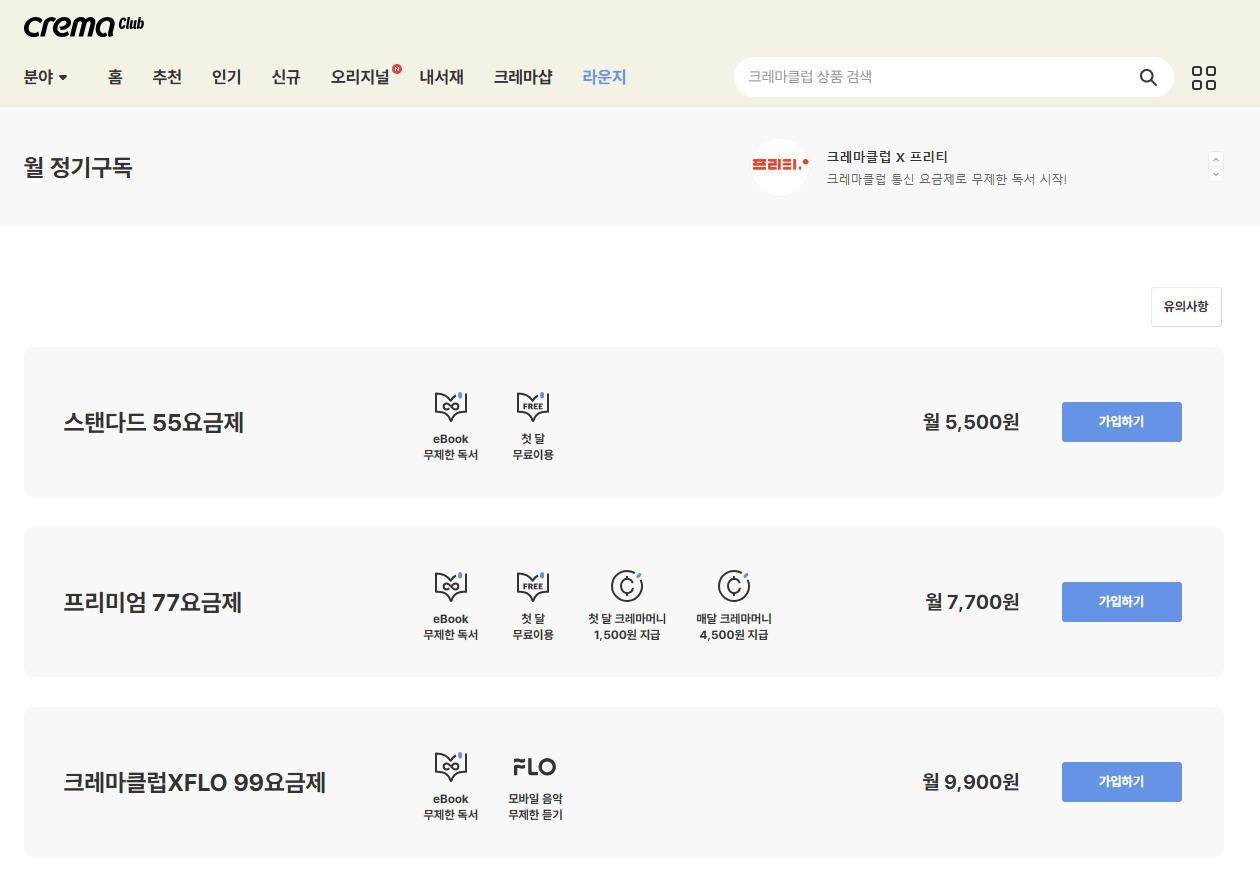button: (1058, 760, 1188, 805), (1059, 580, 1183, 623), (1064, 400, 1183, 442), (1152, 285, 1225, 325), (325, 61, 405, 92), (491, 62, 559, 90), (417, 61, 469, 93), (580, 62, 635, 91), (267, 60, 311, 91), (1188, 58, 1221, 96), (103, 57, 134, 97), (155, 64, 195, 92), (209, 60, 247, 89), (1135, 65, 1166, 90), (1207, 148, 1225, 187)
checkbox: (22, 59, 73, 91)
input_field: (735, 56, 1175, 99)
